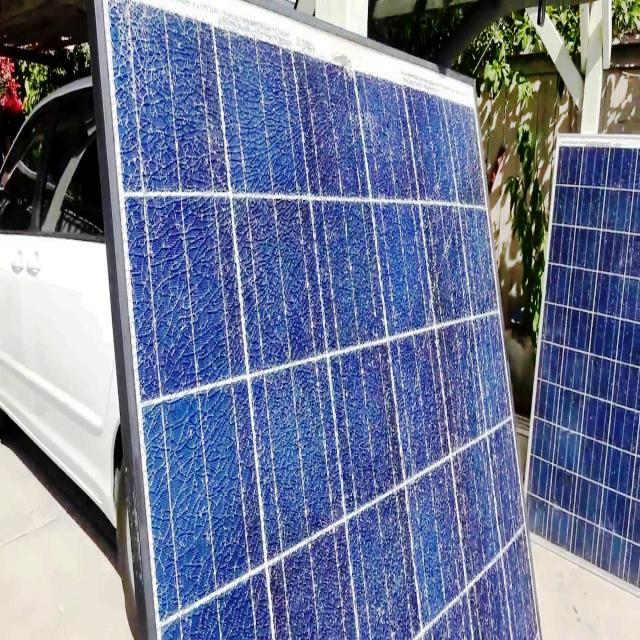faulty: (101, 3, 539, 640), (521, 135, 639, 592)
